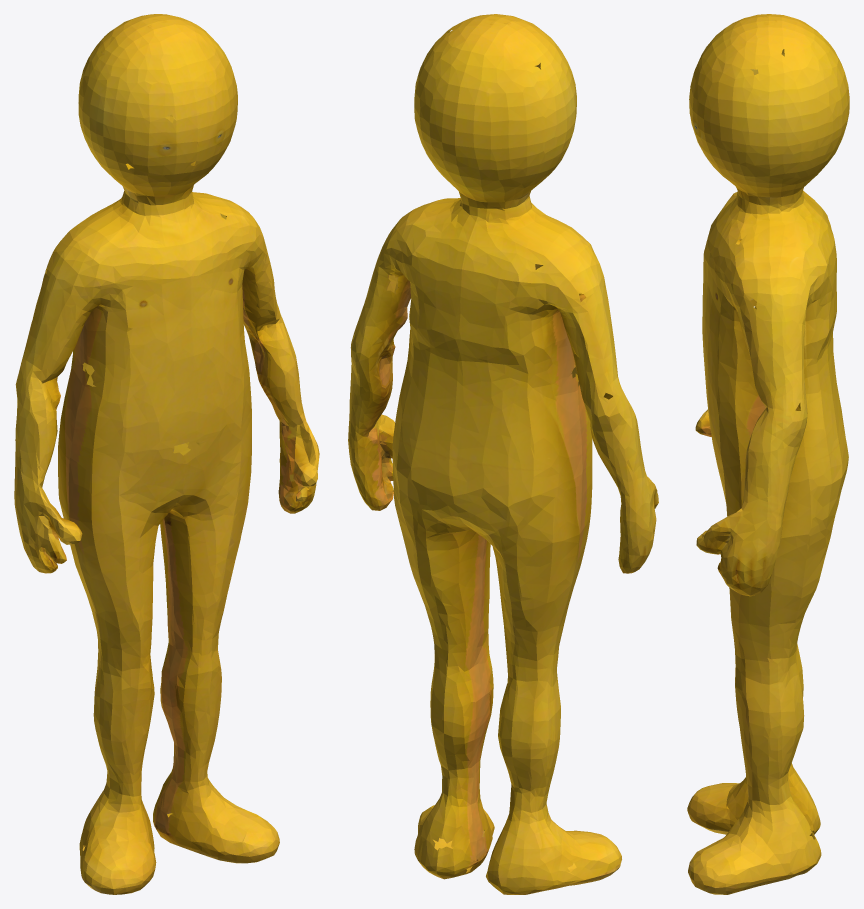
The model's file is person.FBX.
3 renders of one model, left to right at view 1: azimuth 30°, elevation 25°; view 2: azimuth 150°, elevation 25°; view 3: azimuth 270°, elevation 25°, orthographic. The views are drawn at different scales.
Visible parts, largest first — view 1: temp; view 2: temp; view 3: temp.
Boxes of the visible parts, x1=… form: temp: x1=14, y1=14, x2=319, y2=894; temp: x1=348, y1=14, x2=658, y2=894; temp: x1=687, y1=14, x2=849, y2=894.
Bounding box in the file's own units: 72.06 × 200 × 35.33.
1 material, 1 textured.
